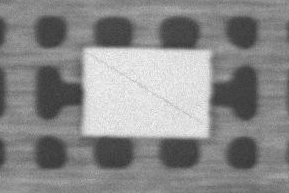DIE_CRACK: (132, 35, 289, 82)
